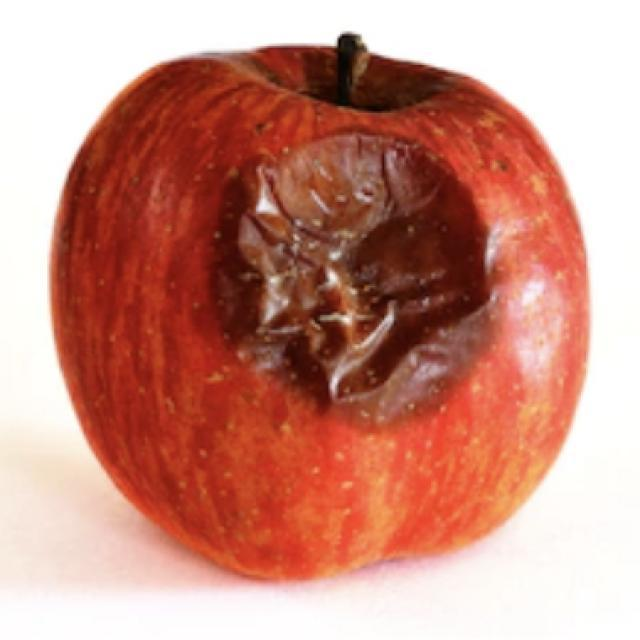Rotten: (47, 37, 593, 583)
